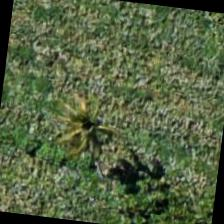Kelapa_Sawit: (36, 96, 136, 196)
